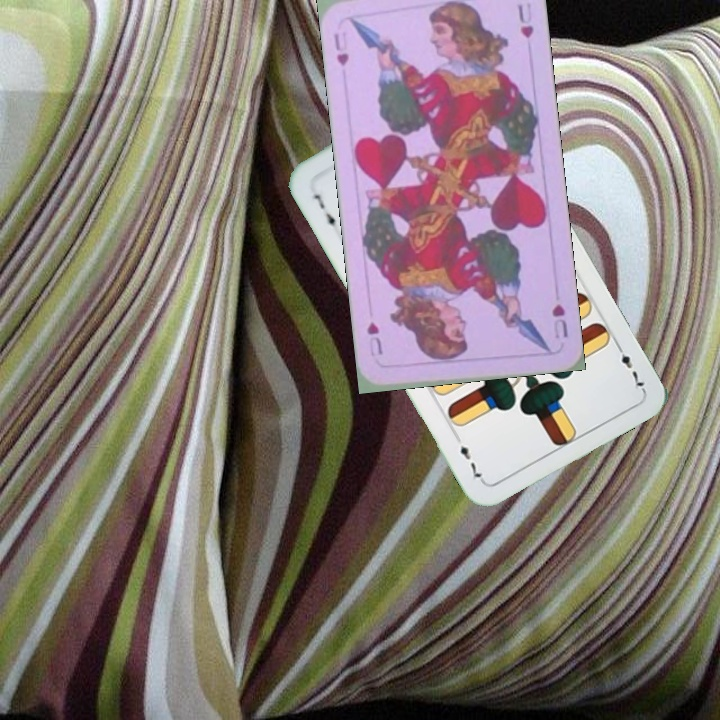E7: (612, 339, 647, 393), (310, 189, 339, 235)
HU: (548, 300, 571, 342), (329, 28, 352, 69)
